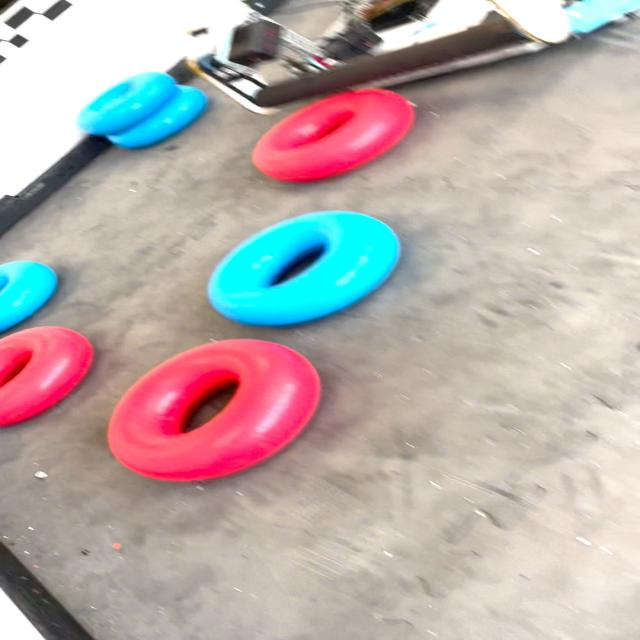Blue-Ring: (209, 211, 400, 326), (107, 85, 207, 149), (78, 72, 178, 135), (0, 261, 58, 331)
Red-Ring: (107, 339, 320, 481), (253, 89, 413, 181), (0, 326, 93, 426)
